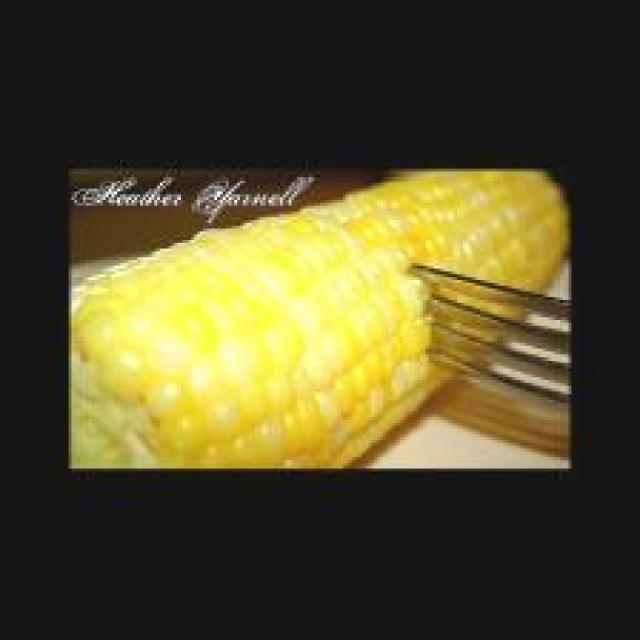corn: (71, 169, 569, 471)
